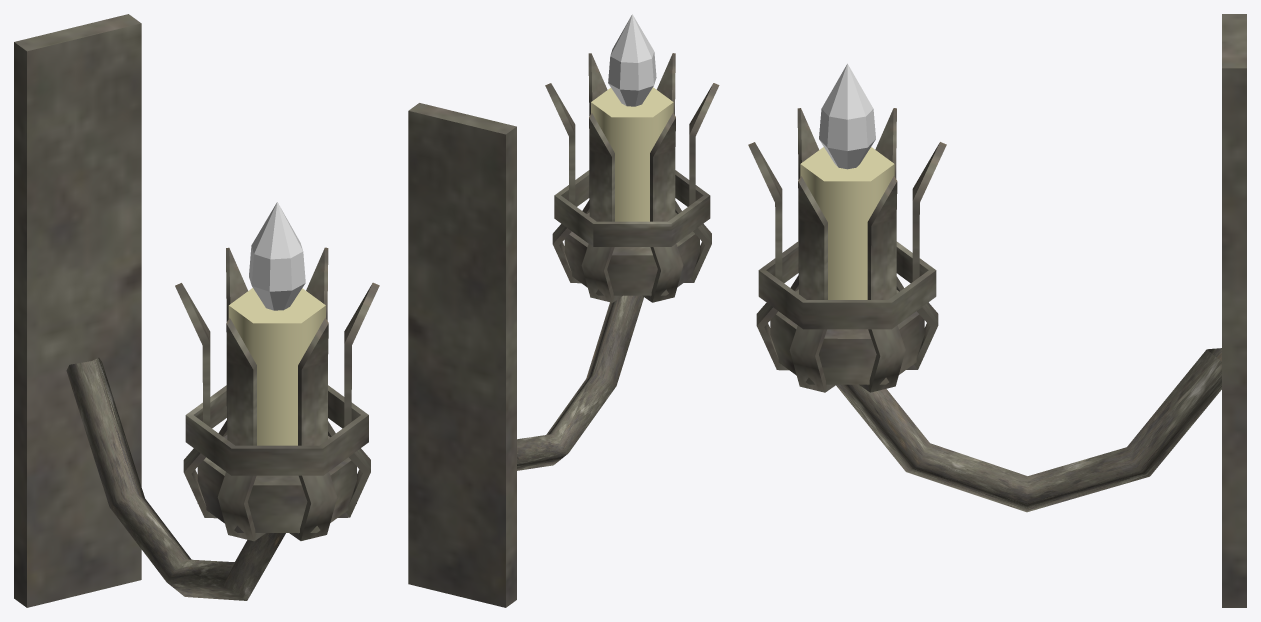
The model's file is wall-candle.glb.
The picture shows the model from 3 angles, left to right: view 1: azimuth 30°, elevation 25°; view 2: azimuth 150°, elevation 25°; view 3: azimuth 270°, elevation 25°; orthographic projection. The views are drawn at different scales.
Visible parts, largest first — view 1: candle02; view 2: candle02; view 3: candle02.
Boxes of the visible parts, <box> form: candle02: <box>14,14,379,607</box>; candle02: <box>408,14,719,607</box>; candle02: <box>748,14,1246,607</box>.
Bounding box in the file's own units: 0.0691 × 0.2386 × 0.1998.
3 materials, 1 textured.
